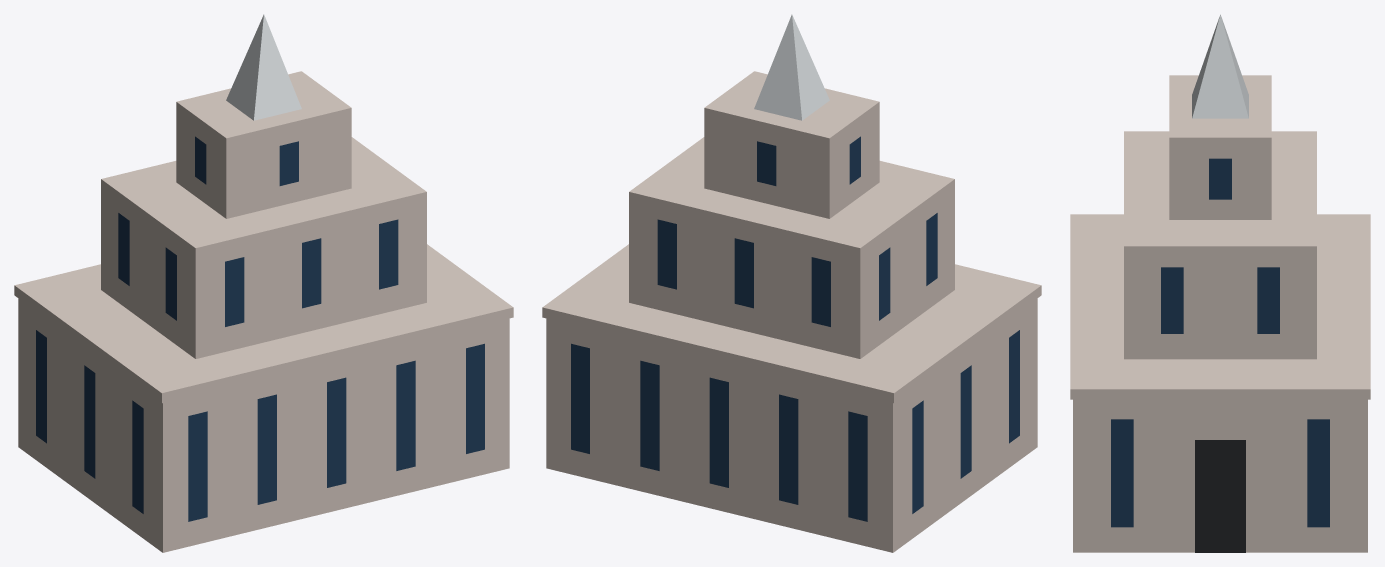
The model's file is roofprop.fbx.
3 views of the same model, side by side, from view 1: azimuth 30°, elevation 25°; view 2: azimuth 150°, elevation 25°; view 3: azimuth 270°, elevation 25° (orthographic).
Parts seen in each view (by area): view 1: a2011/600/roofprop; view 2: a2011/600/roofprop; view 3: a2011/600/roofprop.
Part boxes in pixels (<box>): a2011/600/roofprop: <box>14,14,513,552</box>; a2011/600/roofprop: <box>542,14,1041,552</box>; a2011/600/roofprop: <box>1070,14,1370,552</box>.
Bounding box in the file's own units: 7.3 × 8.8 × 5.3.
